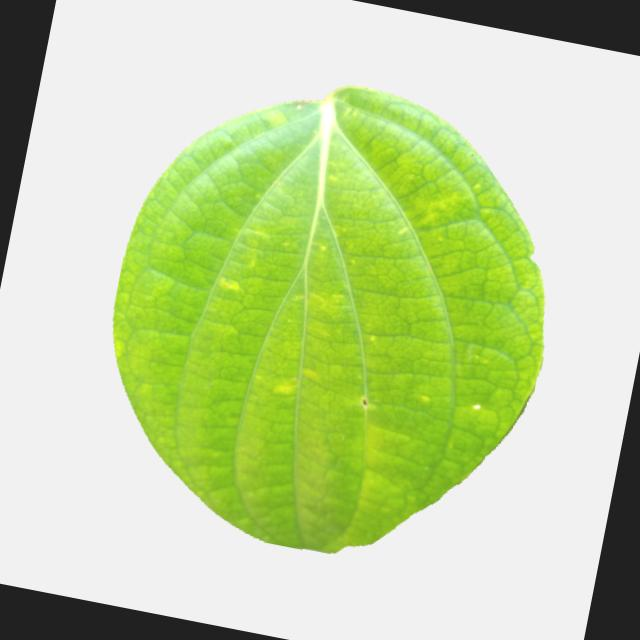healthy: (63, 31, 602, 604)
